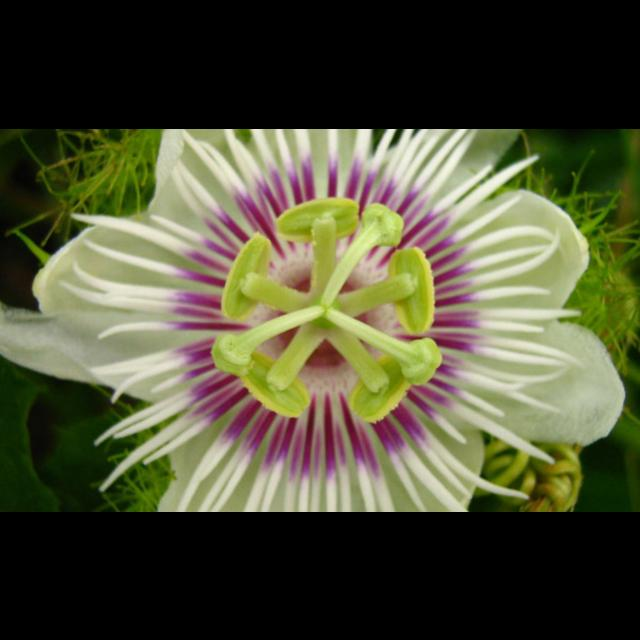Flower: (13, 147, 632, 503)
